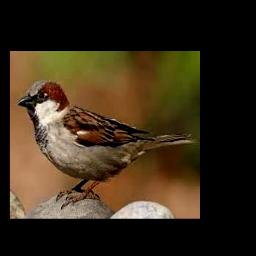Sparrow: (18, 80, 197, 208)
